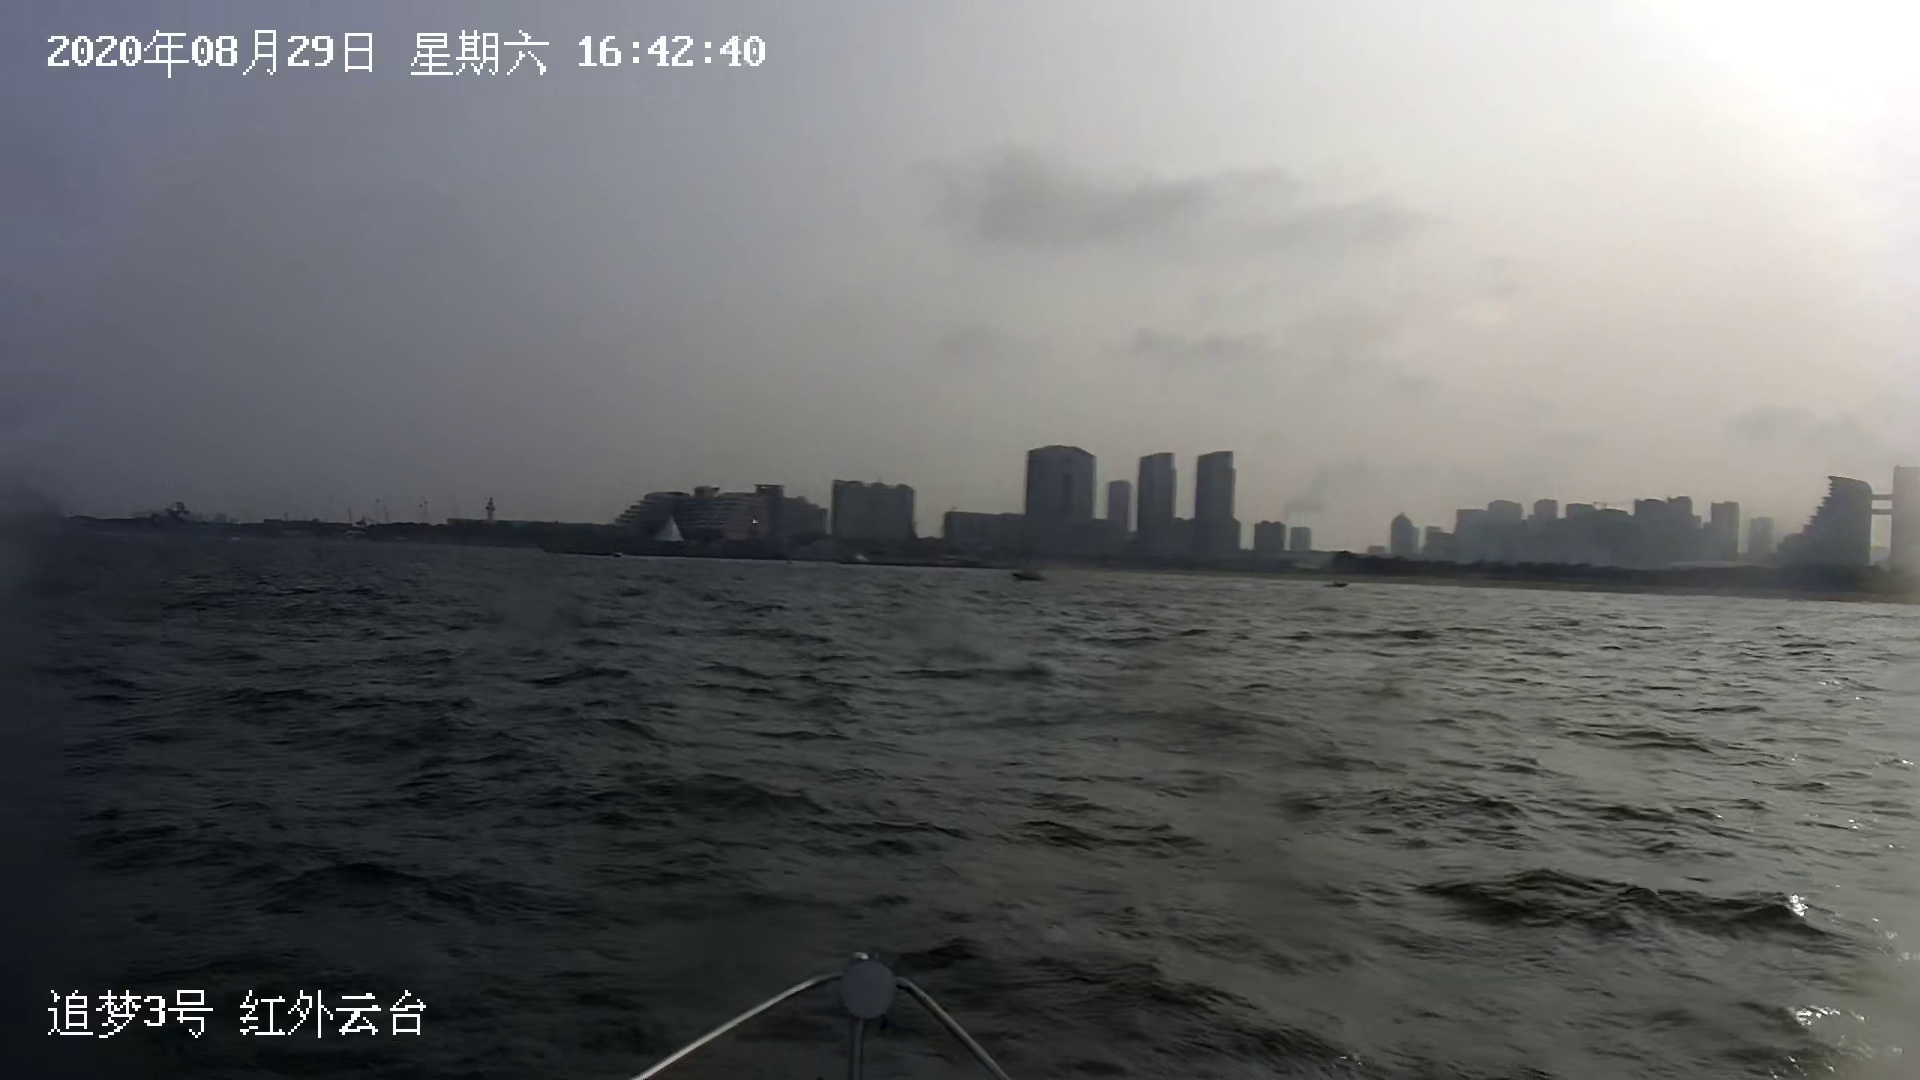barrier: (1007, 568, 1048, 582), (1324, 574, 1349, 591)
coast: (34, 443, 1920, 615)
